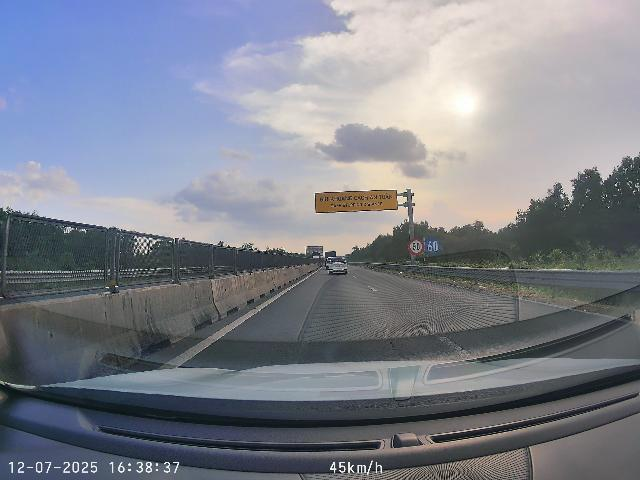127-toc-do-toi-da-90: (408, 238, 424, 255)
306-toc-do-toi-thieu-60: (425, 238, 441, 254)
